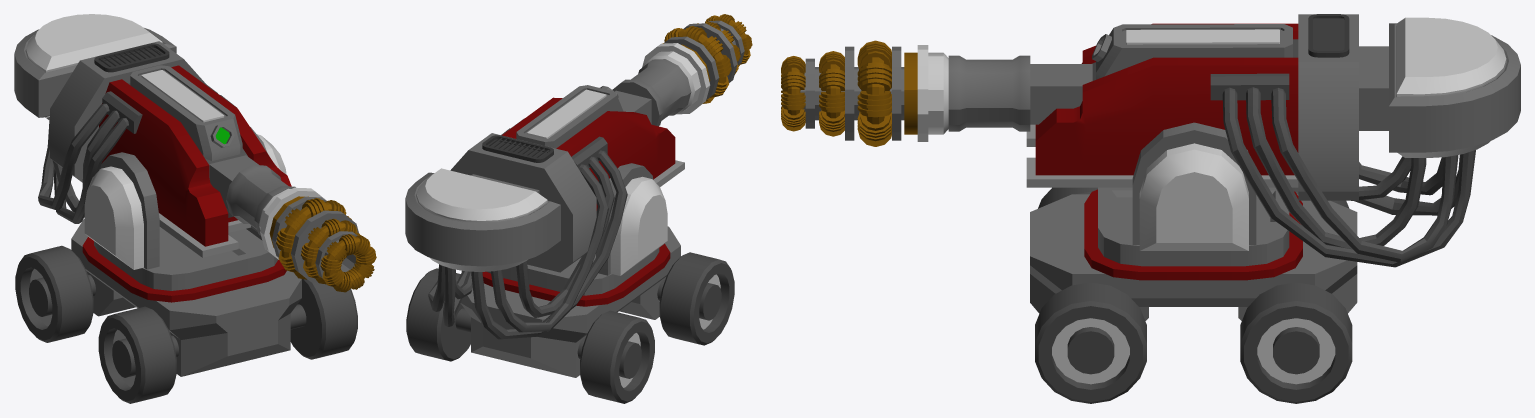
The model's file is SM_Robot_01.fbx.
3 renders of one model, left to right at view 1: azimuth 30°, elevation 25°; view 2: azimuth 150°, elevation 25°; view 3: azimuth 270°, elevation 25°, orthographic. The views are drawn at different scales.
Parts seen in each view (by area): view 1: group2_pCube25_pCube30, polySurface187, FR_Wheel, pCube8, polySurface4, pCube240, RR_Wheel, polySurface212, polySurface5, pCylinder73, polySurface207, polySurface206 (+12 smaller); view 2: polySurface4, RR_Wheel, group2_pCube25_pCube30, pCylinder73, polySurface5, FR_Wheel, polySurface187, pCube240, pCube8, polySurface212, polySurface207, polySurface191 (+10 smaller); view 3: polySurface187, polySurface4, pCylinder71, pCube22, group2_pCube25_pCube30, FR_Wheel, RR_Wheel, pCube8, polySurface5, polySurface212, polySurface207, polySurface198 (+14 smaller).
Part boxes in pixels (x1,y1,x2,y2): group2_pCube25_pCube30: [71, 219, 301, 376]; polySurface187: [99, 65, 291, 246]; FR_Wheel: [98, 279, 357, 403]; pCube8: [82, 227, 286, 302]; polySurface4: [14, 14, 176, 120]; pCube240: [84, 152, 159, 269]; RR_Wheel: [15, 245, 95, 342]; polySurface212: [130, 65, 242, 160]; polySurface5: [50, 41, 205, 182]; pCylinder73: [38, 103, 128, 223]; polySurface207: [226, 165, 295, 235]; polySurface206: [320, 234, 376, 292]; polySurface4: [405, 168, 560, 271]; RR_Wheel: [406, 268, 654, 403]; group2_pCube25_pCube30: [460, 226, 680, 377]; pCylinder73: [471, 150, 627, 339]; polySurface5: [450, 133, 596, 272]; FR_Wheel: [657, 252, 734, 345]; polySurface187: [502, 97, 675, 210]; pCube240: [596, 163, 667, 275]; pCube8: [482, 243, 670, 306]; polySurface212: [516, 85, 623, 148]; polySurface207: [612, 59, 691, 126]; polySurface191: [642, 43, 710, 114]; polySurface187: [1035, 23, 1298, 175]; polySurface4: [1389, 17, 1520, 157]; pCylinder71: [1222, 87, 1475, 267]; pCube22: [1132, 122, 1256, 250]; group2_pCube25_pCube30: [1030, 194, 1357, 320]; FR_Wheel: [1035, 187, 1146, 403]; RR_Wheel: [1240, 187, 1352, 403]; pCube8: [1084, 187, 1302, 280]; polySurface5: [1298, 14, 1358, 200]; polySurface212: [1096, 24, 1292, 79]; polySurface207: [948, 55, 1030, 131]; polySurface198: [857, 40, 891, 146].
Size of the model in its own units: 81.74 by 89.45 by 196.
